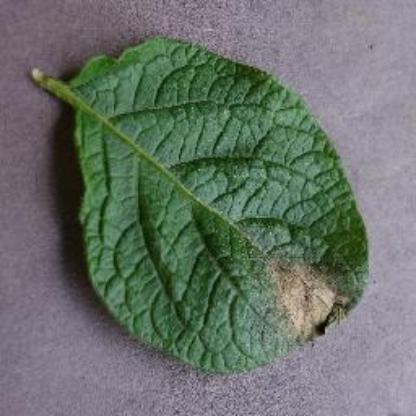Late-Blight: (26, 29, 384, 386)
